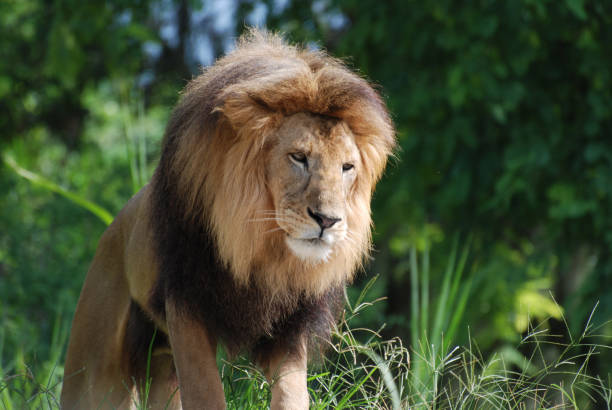lion: (115, 29, 430, 372)
